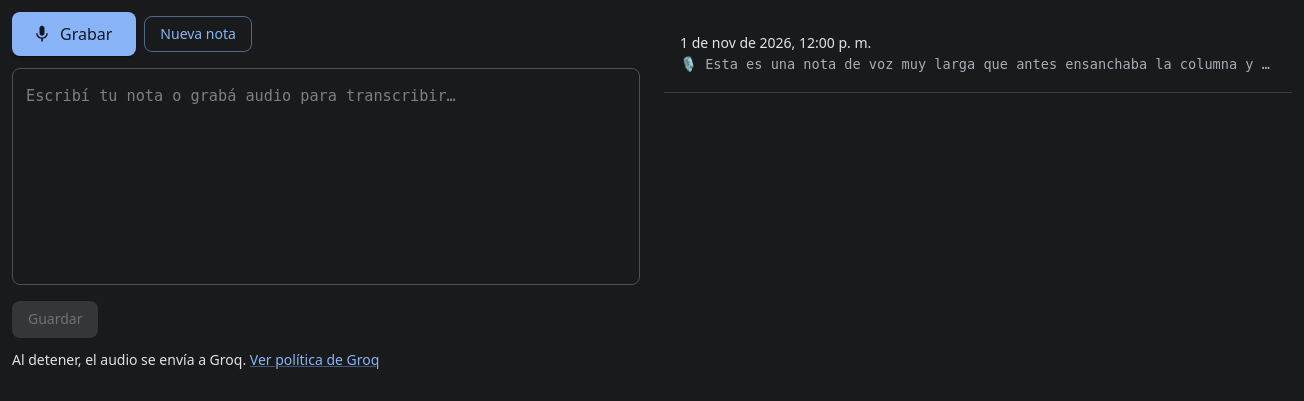
Test: Señales de grabación (UI-08) › al grabar el botón dice «Detener», corre el cronómetro y cinco barras decorativas muestran el nivel
The image size is (1304, 401).
Click the button "Grabar": (74, 34) [12,12,136,56]
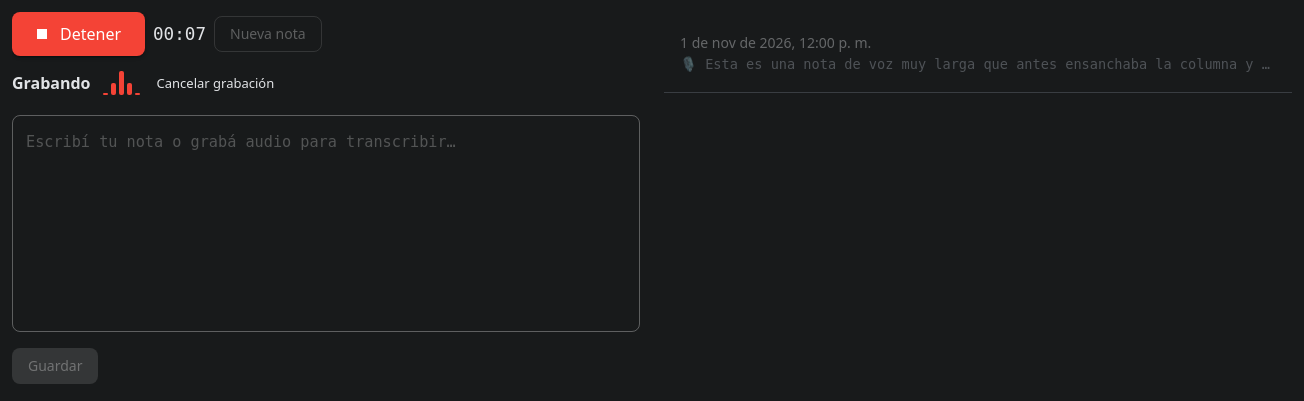
Expected: the button with aria-label "Detener y transcribir" reads "Detener", [12,12,145,56]
Result: the button "Grabar" is gone
Result: the text "00:07" is shown at [153,21,206,47]
